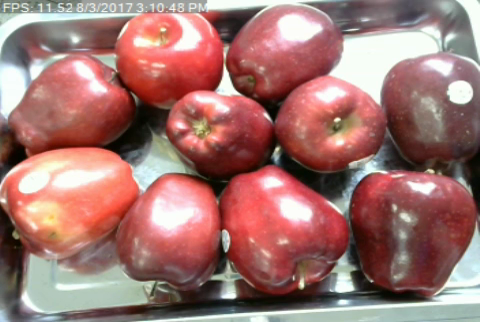Apple: (213, 161, 351, 298), (346, 166, 480, 301), (0, 144, 141, 262), (7, 52, 139, 156), (115, 171, 223, 295), (378, 50, 480, 169), (226, 1, 345, 103), (113, 7, 225, 113), (274, 74, 386, 175), (164, 87, 278, 181)
